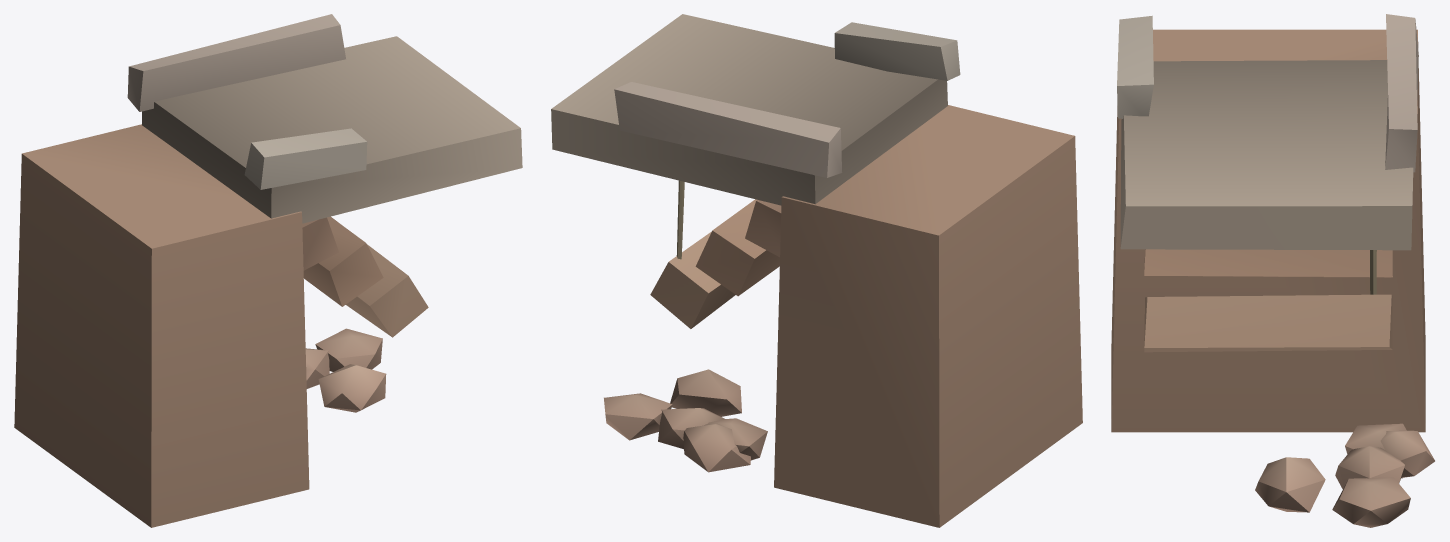
Rendered from span_stump.glb.
3 views of the same model, side by side, from view 1: azimuth 30°, elevation 25°; view 2: azimuth 150°, elevation 25°; view 3: azimuth 270°, elevation 25° (orthographic). The views are drawn at different scales.
Parts seen in each view (by area): view 1: span_stump; view 2: span_stump; view 3: span_stump.
Boxes of the visible parts, x1,y1,x2,y2 form: span_stump: (14,14,522,527); span_stump: (551,14,1082,527); span_stump: (1111,14,1434,527).
Size of the model in its own units: 8.58 by 7.7 by 5.57.
